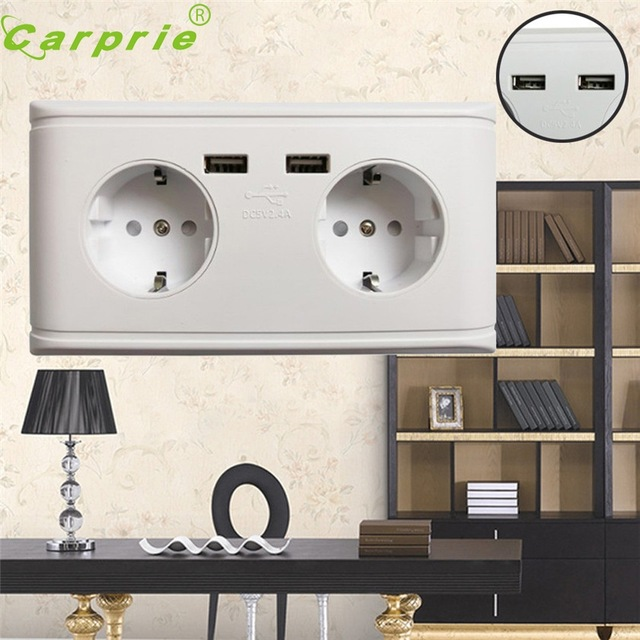raccoon: (312, 151, 448, 299), (80, 159, 219, 296)
